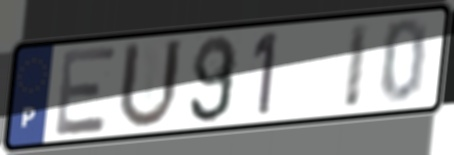0: (378, 16, 431, 108)
1: (249, 29, 279, 119)
9: (186, 32, 241, 127)
E: (53, 42, 121, 140)
I: (340, 20, 373, 113)
U: (114, 36, 186, 133)
